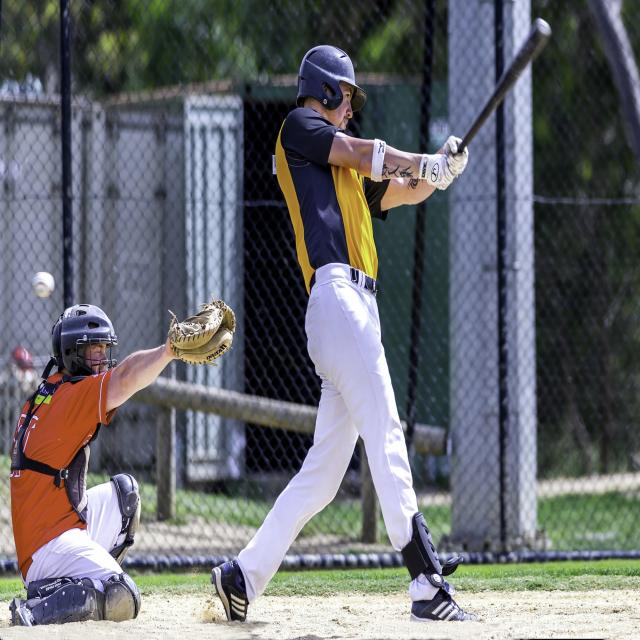adult: (209, 46, 463, 626), (11, 302, 175, 626)
